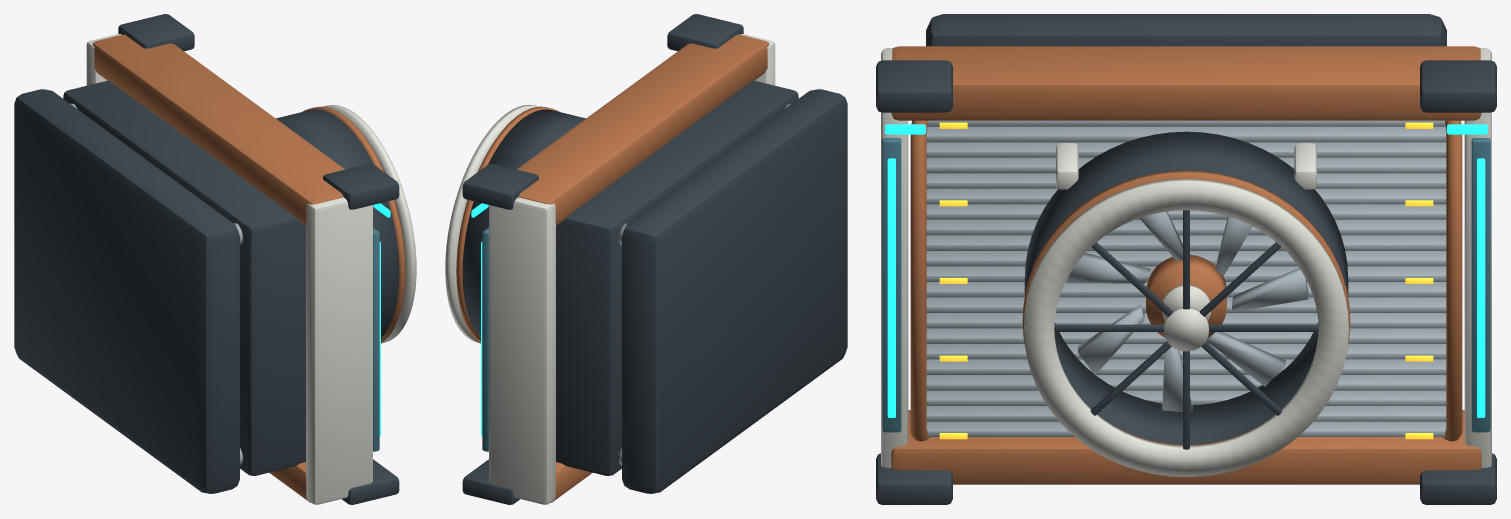
The model's file is M05-009_side_liquid_radiator.glb.
3 views of the same model, side by side, from view 1: azimuth 30°, elevation 25°; view 2: azimuth 150°, elevation 25°; view 3: azimuth 270°, elevation 25° (orthographic). The views are drawn at different scales.
Parts seen in each view (by area): view 1: Mount_Backplate, Core_Heat_Exchanger, Side_Rail_-1, Upper_Manifold, Fan_Duct_Outer, Fan_Front_Guard, Corner_Armor_Top_-1, Corner_Armor_Top_1, Fan_Duct_Copper_Lip, Coolant_Glass_-1, Corner_Armor_Bottom_-1, Lower_Manifold (+1 smaller); view 2: Mount_Backplate, Core_Heat_Exchanger, Side_Rail_1, Upper_Manifold, Fan_Duct_Outer, Fan_Front_Guard, Corner_Armor_Top_1, Corner_Armor_Top_-1, Fan_Duct_Copper_Lip, Coolant_Glass_1, Corner_Armor_Bottom_1, Lower_Manifold (+1 smaller); view 3: Upper_Manifold, Fan_Front_Guard, Fan_Duct_Outer, Lower_Manifold, Mount_Backplate, Radiator_Fin_19, Radiator_Fin_12, Coolant_Return_-1, Coolant_Return_1, Radiator_Fin_08, Radiator_Fin_18, Radiator_Fin_03 (+47 smaller).
Boxes of the visible parts, bbox=[...] form: Mount_Backplate: bbox=[14, 89, 239, 493]; Core_Heat_Exchanger: bbox=[63, 80, 305, 475]; Side_Rail_-1: bbox=[306, 197, 372, 504]; Upper_Manifold: bbox=[92, 34, 344, 225]; Fan_Duct_Outer: bbox=[276, 109, 399, 337]; Fan_Front_Guard: bbox=[322, 104, 416, 343]; Corner_Armor_Top_-1: bbox=[323, 163, 399, 209]; Corner_Armor_Top_1: bbox=[118, 14, 194, 51]; Fan_Duct_Copper_Lip: bbox=[302, 106, 405, 342]; Coolant_Glass_-1: bbox=[373, 228, 379, 451]; Corner_Armor_Bottom_-1: bbox=[341, 459, 399, 504]; Lower_Manifold: bbox=[269, 462, 310, 502]; Mount_Backplate: bbox=[622, 89, 847, 493]; Core_Heat_Exchanger: bbox=[556, 80, 798, 475]; Side_Rail_1: bbox=[489, 197, 555, 504]; Upper_Manifold: bbox=[517, 34, 769, 225]; Fan_Duct_Outer: bbox=[462, 109, 585, 337]; Fan_Front_Guard: bbox=[445, 104, 539, 343]; Corner_Armor_Top_1: bbox=[462, 163, 538, 209]; Corner_Armor_Top_-1: bbox=[667, 14, 743, 51]; Fan_Duct_Copper_Lip: bbox=[456, 106, 559, 342]; Coolant_Glass_1: bbox=[482, 228, 488, 451]; Corner_Armor_Bottom_1: bbox=[462, 459, 520, 504]; Lower_Manifold: bbox=[551, 462, 592, 502]; Upper_Manifold: bbox=[891, 46, 1481, 120]; Fan_Front_Guard: bbox=[1024, 179, 1348, 477]; Fan_Duct_Outer: bbox=[1024, 131, 1348, 444]; Lower_Manifold: bbox=[891, 410, 1481, 484]; Mount_Backplate: bbox=[926, 14, 1446, 46]; Radiator_Fin_19: bbox=[926, 126, 1446, 142]; Radiator_Fin_12: bbox=[926, 235, 1446, 250]; Coolant_Return_-1: bbox=[910, 120, 929, 441]; Coolant_Return_1: bbox=[1443, 120, 1462, 441]; Radiator_Fin_08: bbox=[926, 297, 1446, 312]; Radiator_Fin_18: bbox=[926, 142, 1446, 157]; Radiator_Fin_03: bbox=[926, 375, 1446, 390].
Bounding box in the file's own units: 0.5605 × 0.67 × 0.906.
